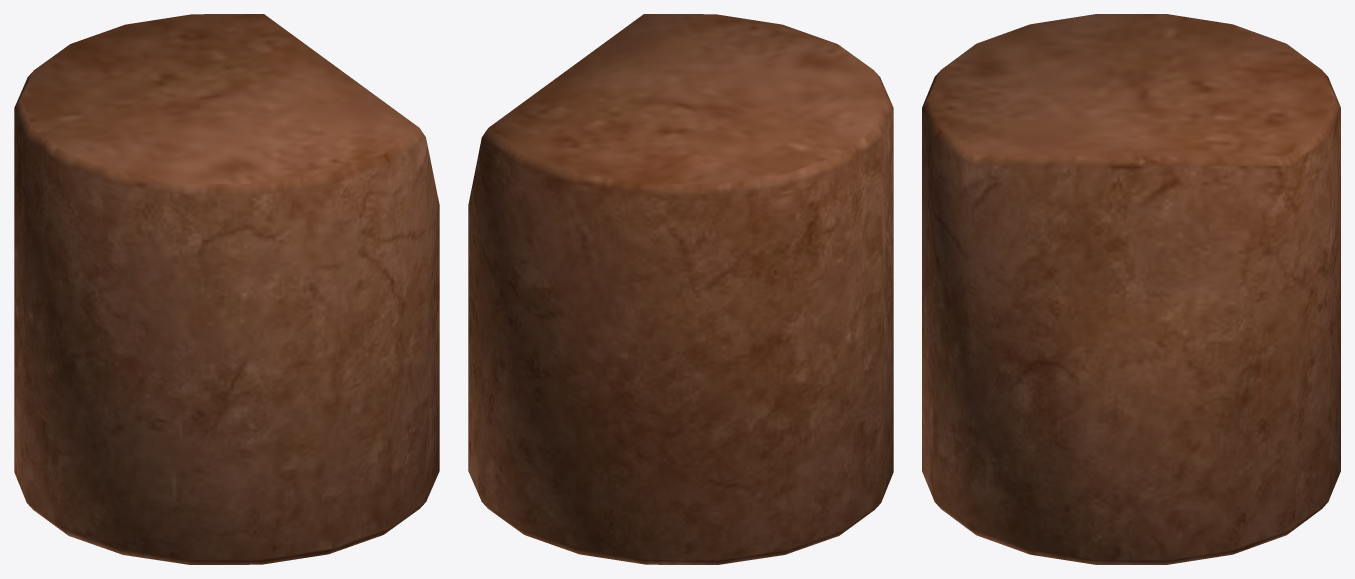
Rendered from kolonnaThree.glb.
3 views of the same model, side by side, from view 1: azimuth 30°, elevation 25°; view 2: azimuth 150°, elevation 25°; view 3: azimuth 270°, elevation 25° (orthographic).
Visible parts, largest first — view 1: 4ast_kolonna_03; view 2: 4ast_kolonna_03; view 3: 4ast_kolonna_03.
Part boxes in pixels (x1,y1,x2,y2): 4ast_kolonna_03: [14, 14, 439, 564]; 4ast_kolonna_03: [468, 14, 893, 564]; 4ast_kolonna_03: [922, 14, 1340, 564].
Bounding box in the file's own units: 0.5 × 0.5 × 0.5.
Materials: 1 (1 with a texture image).
